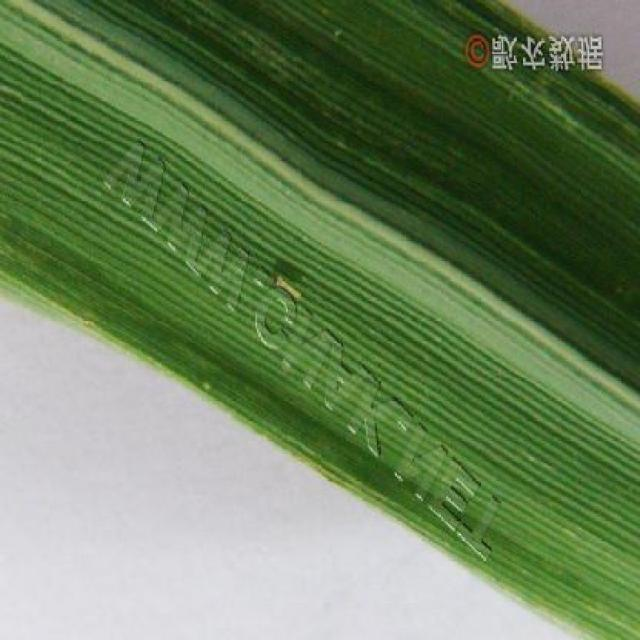leaf-folder: (268, 270, 304, 308)
